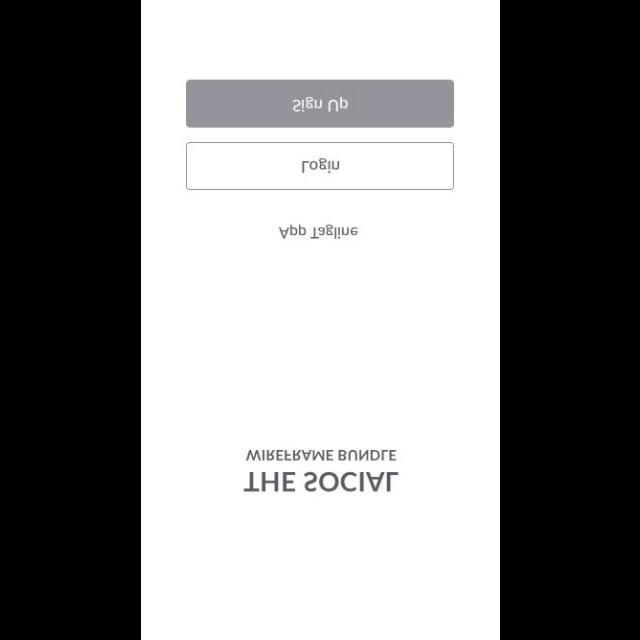text: (243, 471, 399, 492), (245, 449, 397, 461), (278, 224, 358, 240)
textbutton: (186, 142, 454, 190), (186, 79, 454, 127)
